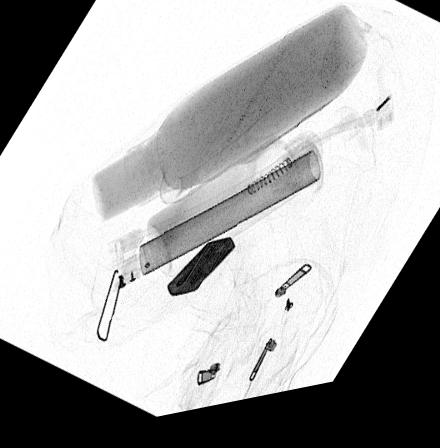Lighter: (167, 245, 236, 303)
